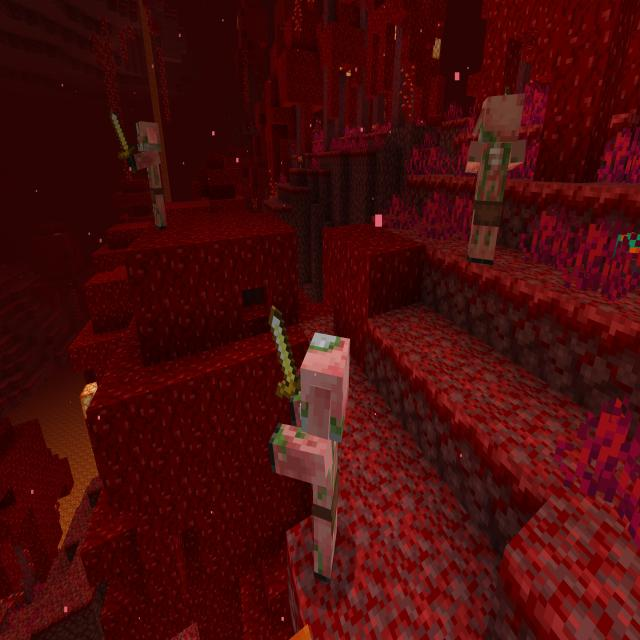Zombified Piglin: (266, 300, 352, 587), (462, 89, 528, 272), (108, 107, 170, 234)
